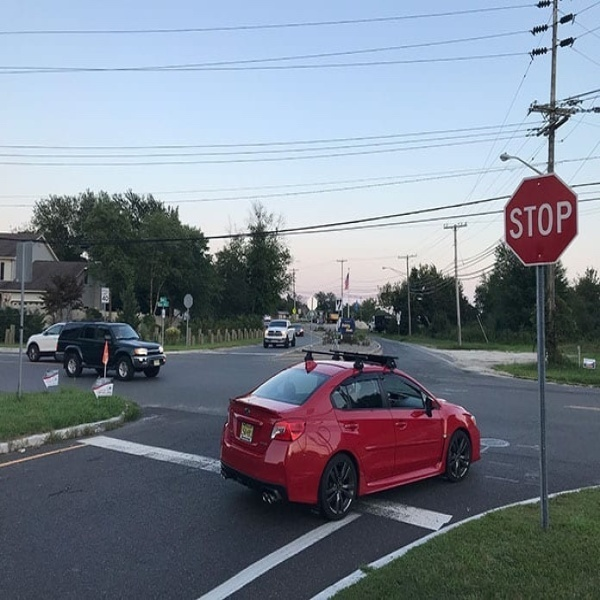stop: (503, 177, 577, 267)
